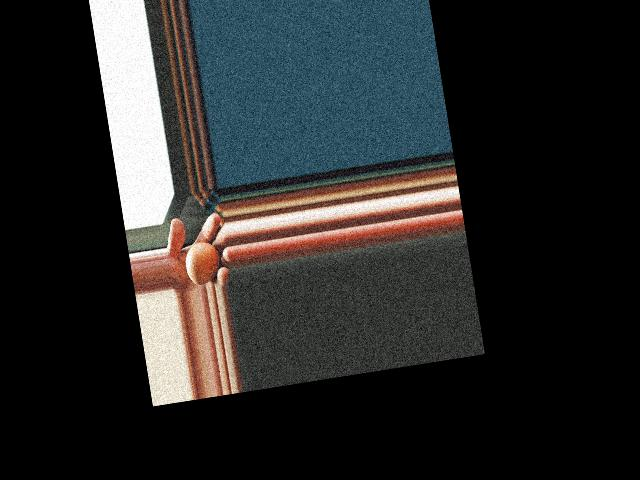egg: (183, 239, 224, 287)
